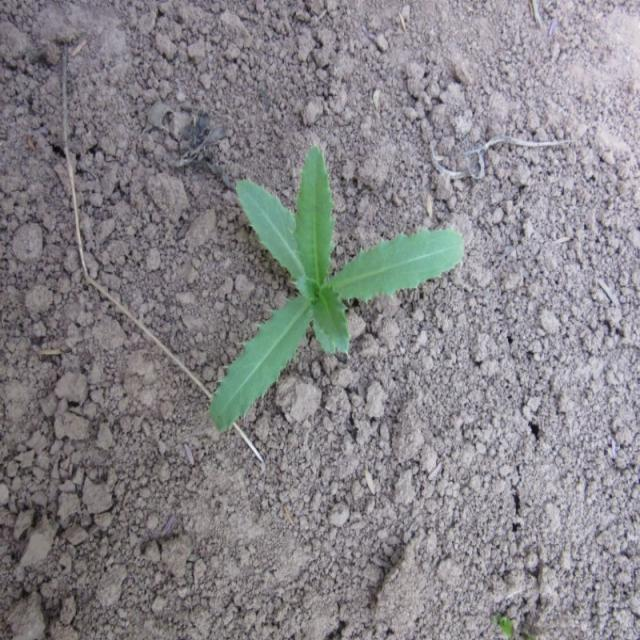field_thistle: (200, 137, 464, 449)
